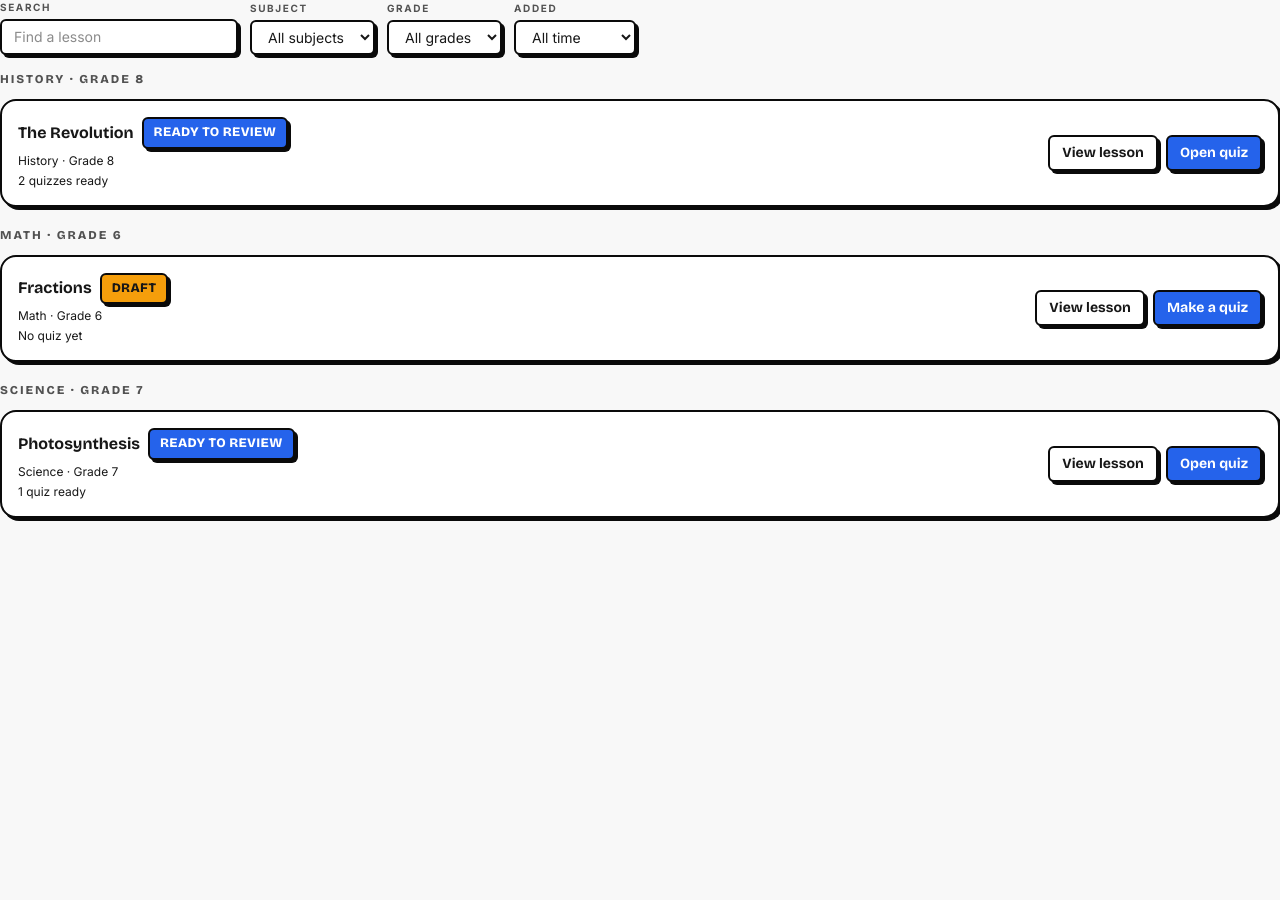
it: LessonLibrary › a "View lesson" button opens the lesson-plan dialog
This screenshot has width=1280, height=900.
Click the button "View lesson" in the row of "The Revolution".
click(1103, 153)  # box [1048,135,1158,171]
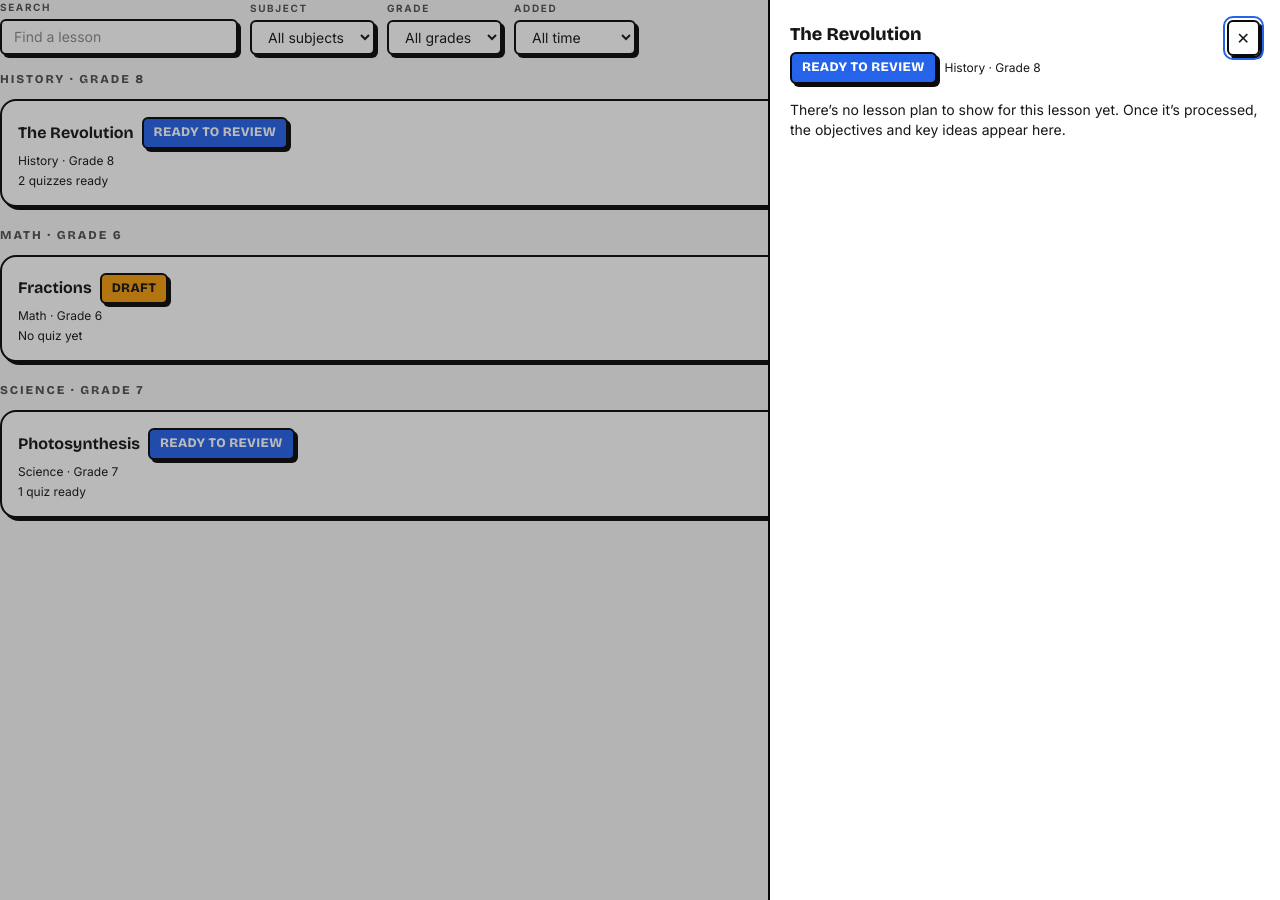
Result: the dialog is shown at [768,0,1279,899]
